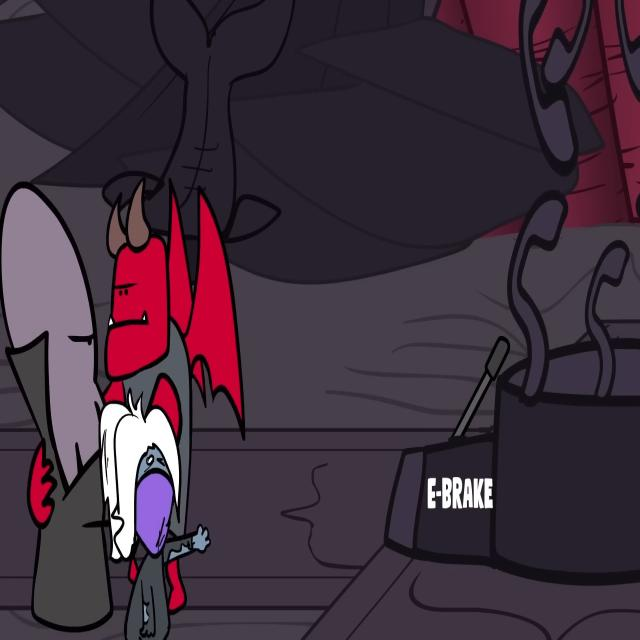miss Demeanor: (100, 397, 207, 640)
